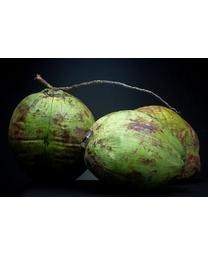coconut: (92, 102, 205, 192), (8, 79, 90, 184)
